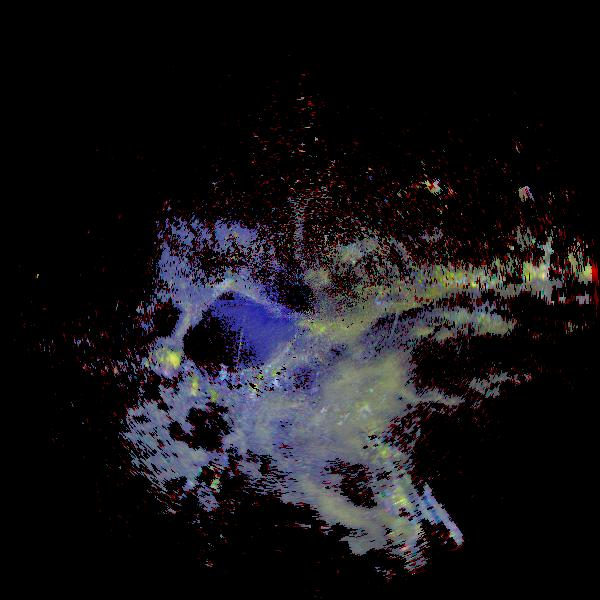roost: (149, 345, 185, 381), (183, 378, 204, 399), (101, 361, 119, 379)
